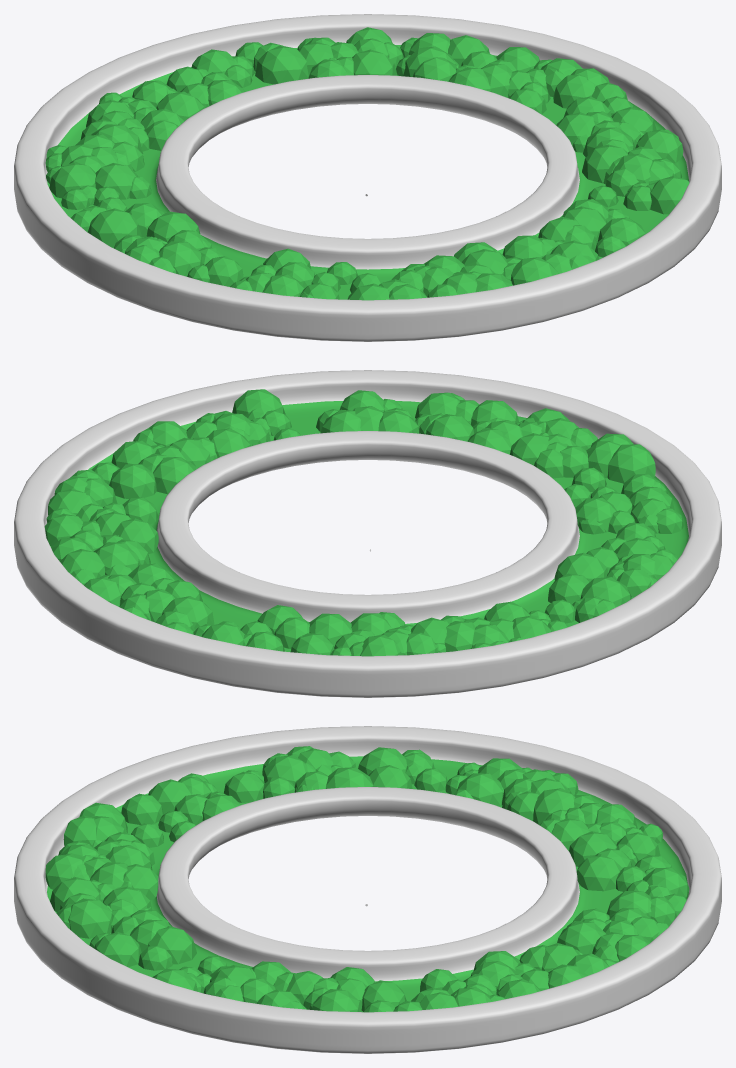
Rendered from _OLD_forno_base.glb.
3 views of the same model, one above another, from view 1: azimuth 30°, elevation 25°; view 2: azimuth 150°, elevation 25°; view 3: azimuth 270°, elevation 25° (orthographic).
Visible parts, largest first — view 1: 04-forno-base; view 2: 04-forno-base; view 3: 04-forno-base.
Boxes of the visible parts, <box> form: 04-forno-base: <box>14,14,721,341</box>; 04-forno-base: <box>14,370,721,697</box>; 04-forno-base: <box>14,726,721,1053</box>.
Bounding box in the file's own units: 3.63 × 0.2214 × 3.63.
